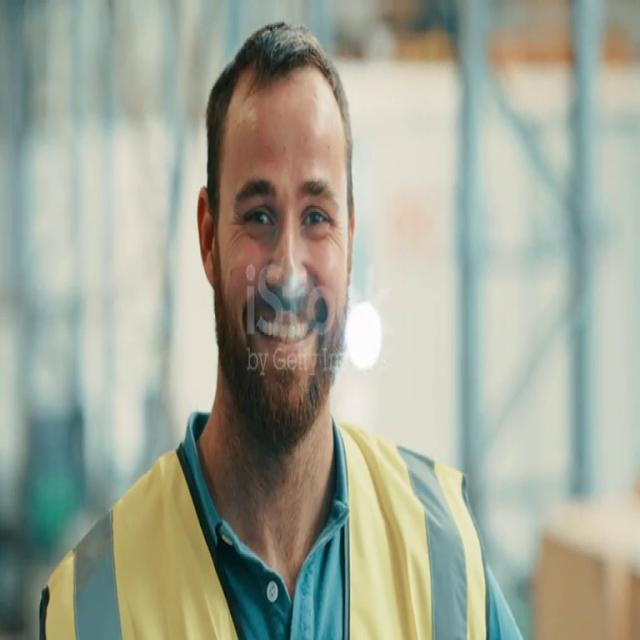sem_capacete: (171, 15, 370, 456)
